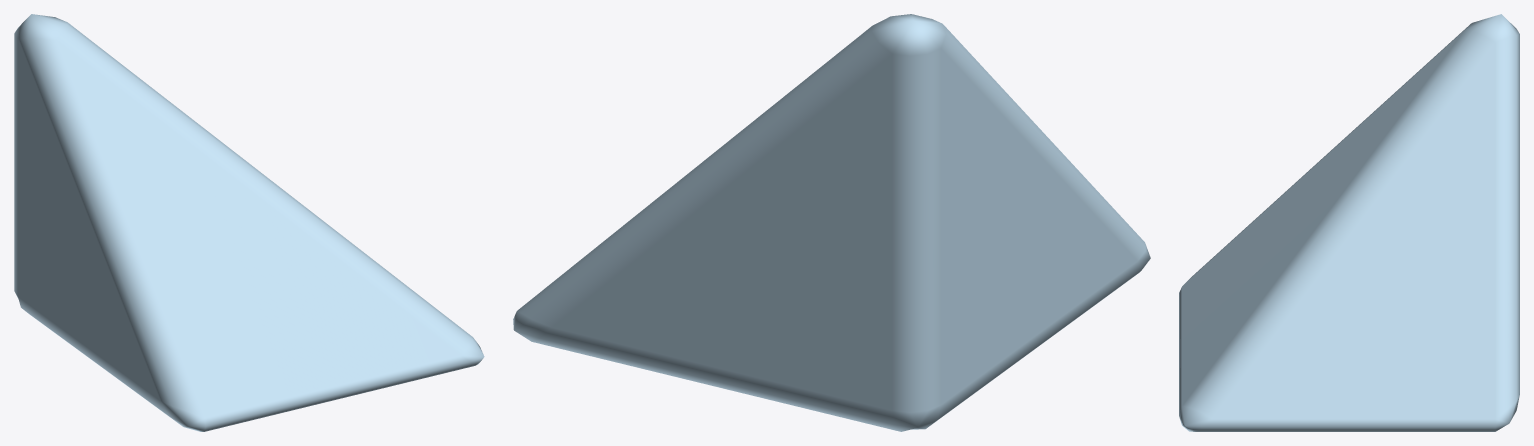
Rendered from R4B_CornerWedge.glb.
3 renders of one model, left to right at view 1: azimuth 30°, elevation 25°; view 2: azimuth 150°, elevation 25°; view 3: azimuth 270°, elevation 25°, orthographic. The views are drawn at different scales.
Parts seen in each view (by area): view 1: R4B_CornerWedge; view 2: R4B_CornerWedge; view 3: R4B_CornerWedge.
Part boxes in pixels (x1,y1,x2,y2): R4B_CornerWedge: (14,14,484,431); R4B_CornerWedge: (513,14,1150,431); R4B_CornerWedge: (1179,14,1519,431).
Size of the model in its own units: 0.4989 by 0.4613 by 0.4989.
